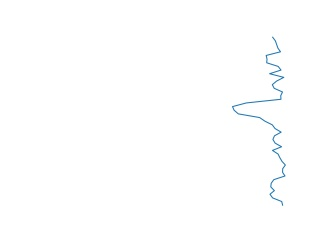interdistributaryEstuary: (226, 37, 293, 206)
